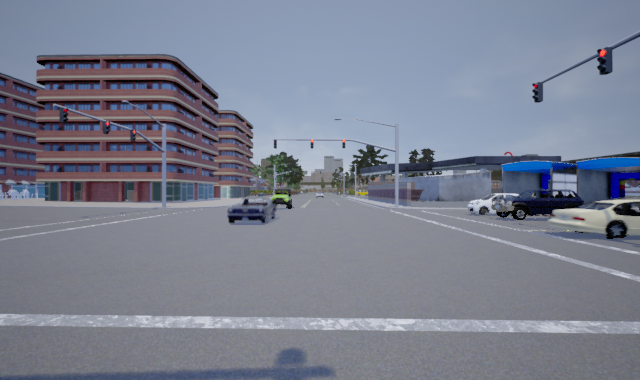vehicle: (546, 198, 639, 239), (494, 187, 588, 220), (466, 193, 530, 216), (226, 196, 278, 224), (267, 188, 293, 210)
